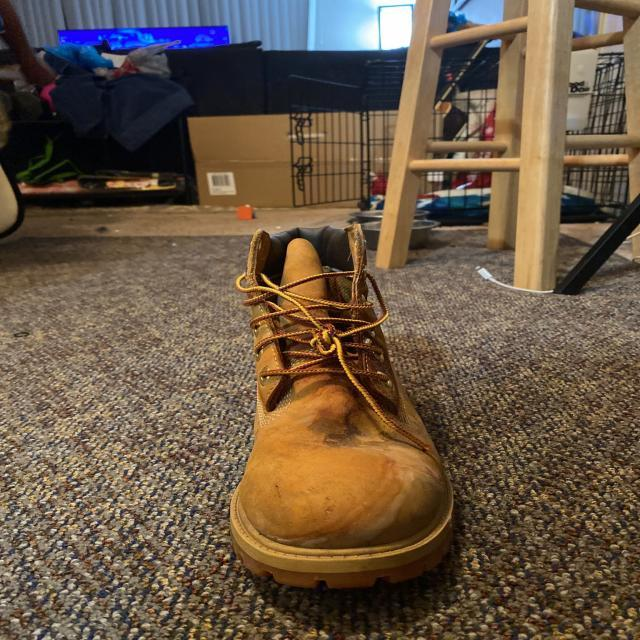shoe: (224, 222, 458, 592)
